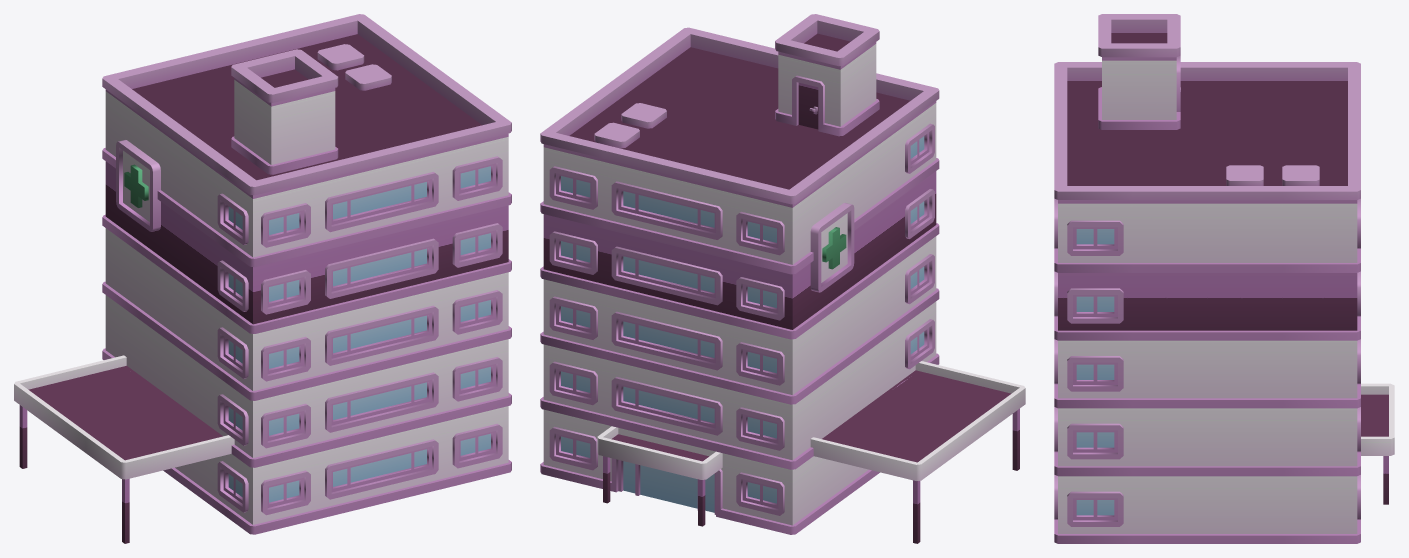
Rendered from hotel_4story_canopy.obj.
The picture shows the model from 3 angles, left to right: view 1: azimuth 30°, elevation 25°; view 2: azimuth 150°, elevation 25°; view 3: azimuth 270°, elevation 25°; orthographic projection. The views are drawn at different scales.
Visible parts, largest first — view 1: building-n; view 2: building-n; view 3: building-n.
Boxes of the visible parts, box(x1,y1,x2,y2) form: building-n: box(14, 14, 511, 543); building-n: box(540, 14, 1025, 543); building-n: box(1054, 14, 1394, 543).
Bounding box in the file's own units: 46.4 × 49.6 × 36.4.
Materials: 1 (1 with a texture image).
